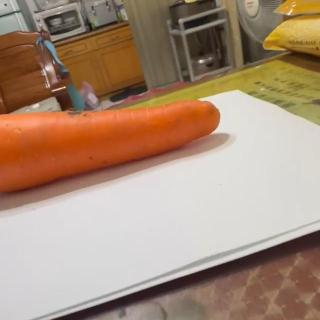carrot: (0, 99, 220, 194)
